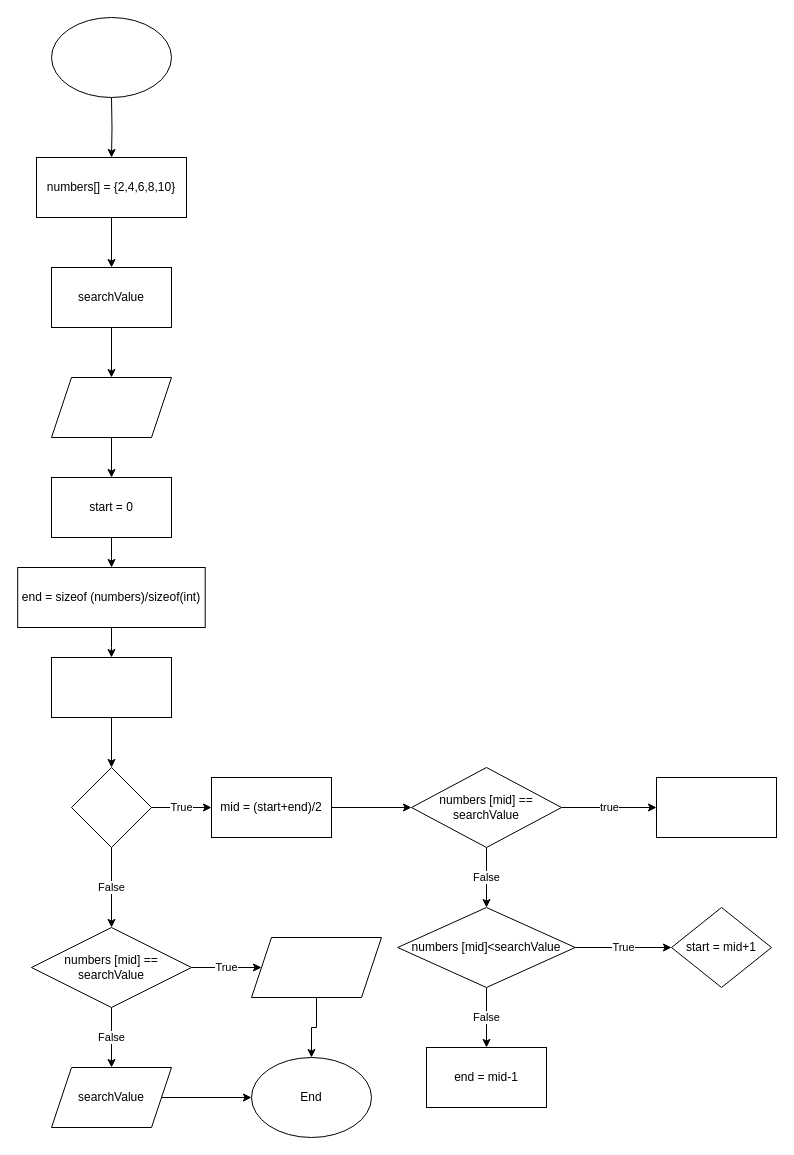
Some shapes in this 794 by 1155 pixel diagram are drawn without their labels. Each missing label, with the box of its shape:
break: (656, 776, 776, 838)
mid: (50, 656, 172, 718)
printf numbers[mid]: (250, 936, 382, 998)
printf searchValue: (50, 376, 172, 438)
Start: (50, 16, 172, 98)
start<=end: (70, 766, 152, 848)
